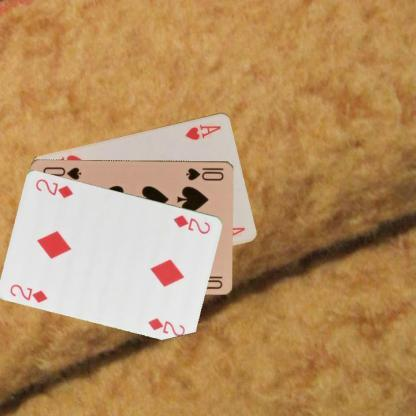10s: (183, 165, 225, 182)
2d: (8, 281, 50, 304), (171, 212, 212, 235)
Ah: (182, 121, 223, 141)
